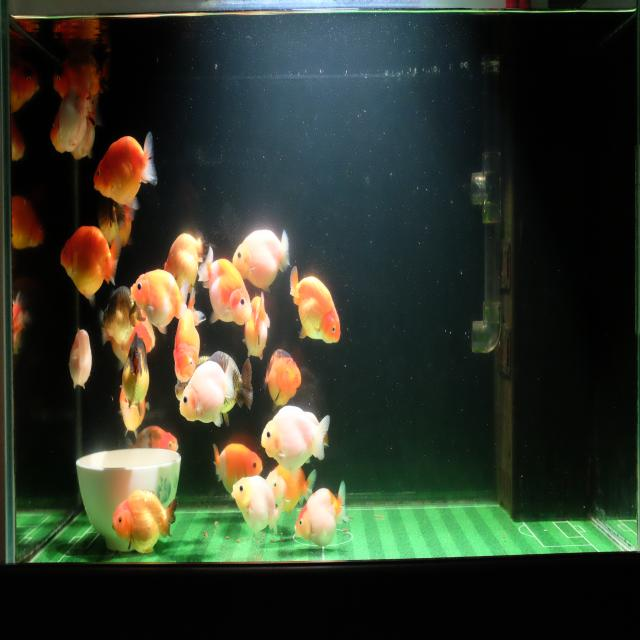Tilapia: (92, 128, 159, 212), (260, 404, 331, 481), (59, 224, 123, 306), (111, 487, 179, 558), (196, 245, 252, 328), (288, 264, 342, 347), (129, 266, 189, 337), (231, 226, 290, 296), (178, 357, 235, 429), (294, 479, 350, 549), (163, 217, 210, 295), (49, 80, 97, 156), (52, 44, 112, 104), (206, 352, 253, 427), (100, 283, 148, 356), (231, 473, 283, 538), (173, 288, 206, 386), (210, 440, 263, 496), (119, 329, 151, 418), (262, 347, 302, 414), (264, 466, 316, 515), (69, 94, 101, 167), (241, 289, 271, 363), (122, 426, 179, 462), (12, 194, 46, 251), (67, 323, 94, 393), (10, 59, 40, 116), (174, 356, 211, 402)
